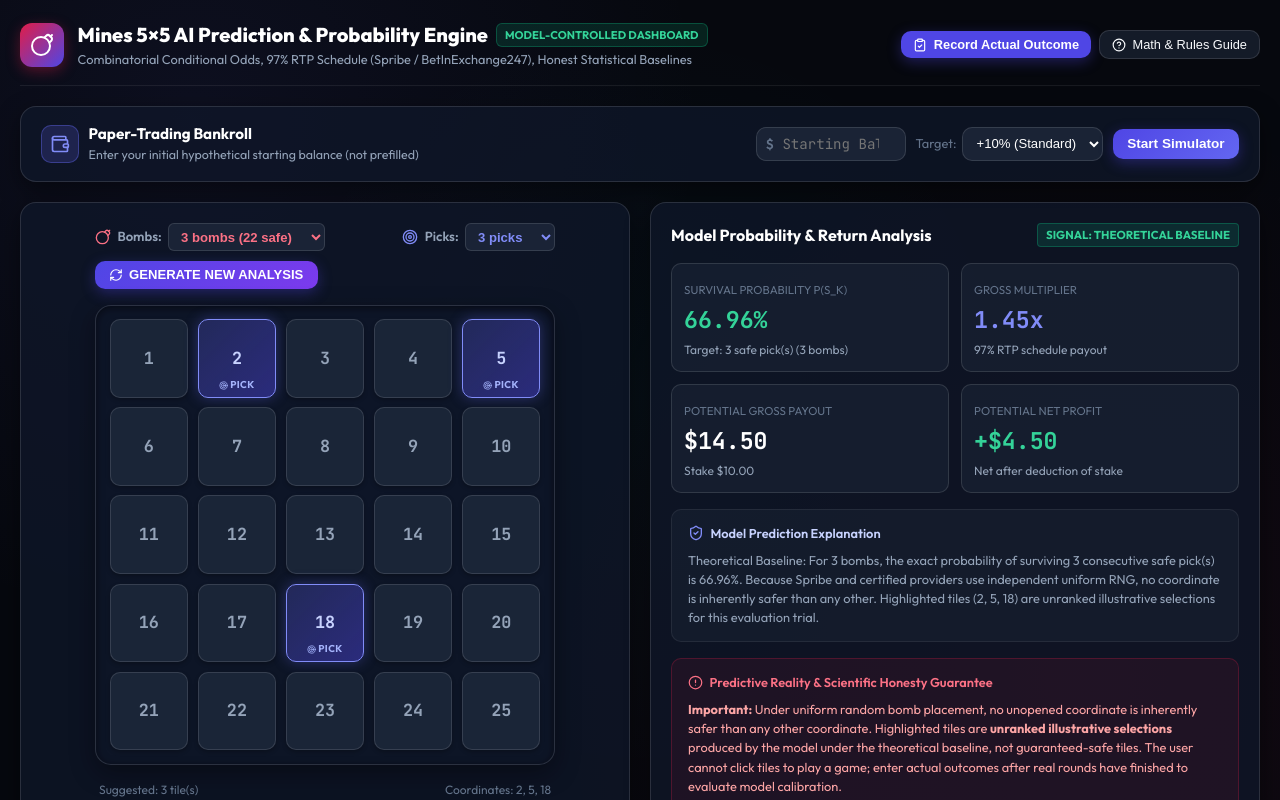
Test: Mines 5x5 UI Workflow and Model-Driven Analysis › Main Workflow: Model generates prediction and displays suggested coordinates without gameplay clicking
Select "4 bombs (21 safe)" in the dropdown named "Bomb count selector" at (247, 237), box [168,223,325,251]
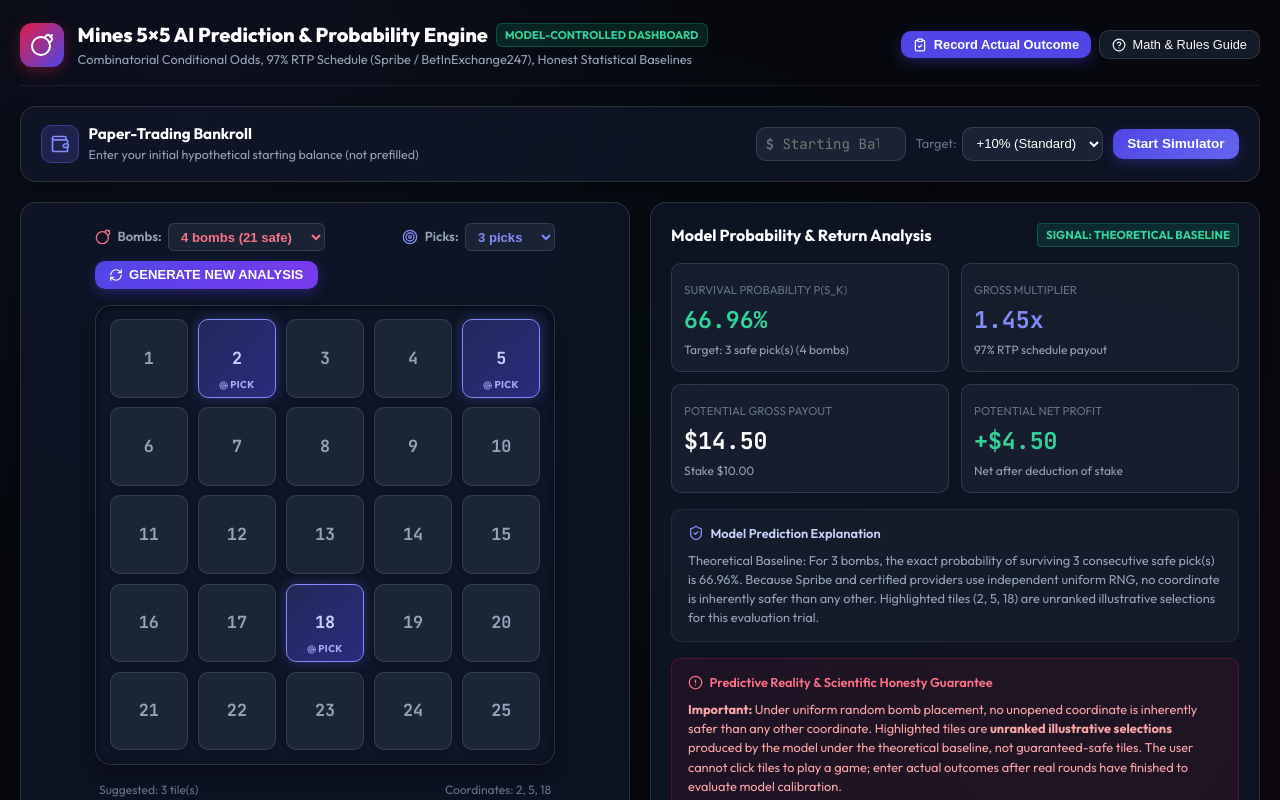
Select "2 picks" in the dropdown named "Picks count selector" at (510, 237), box [465,223,555,251]
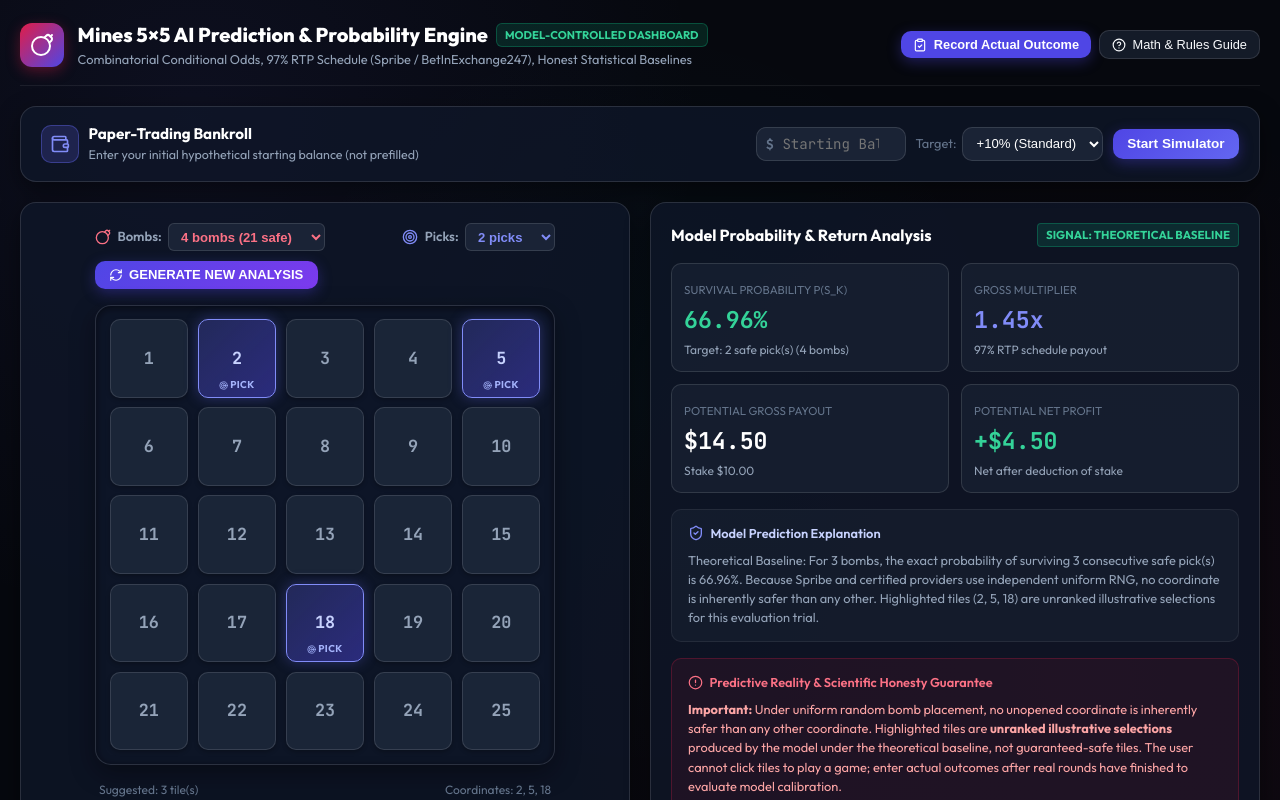
Click the button "GENERATE NEW ANALYSIS".
click(206, 275)  # box [95,261,318,289]
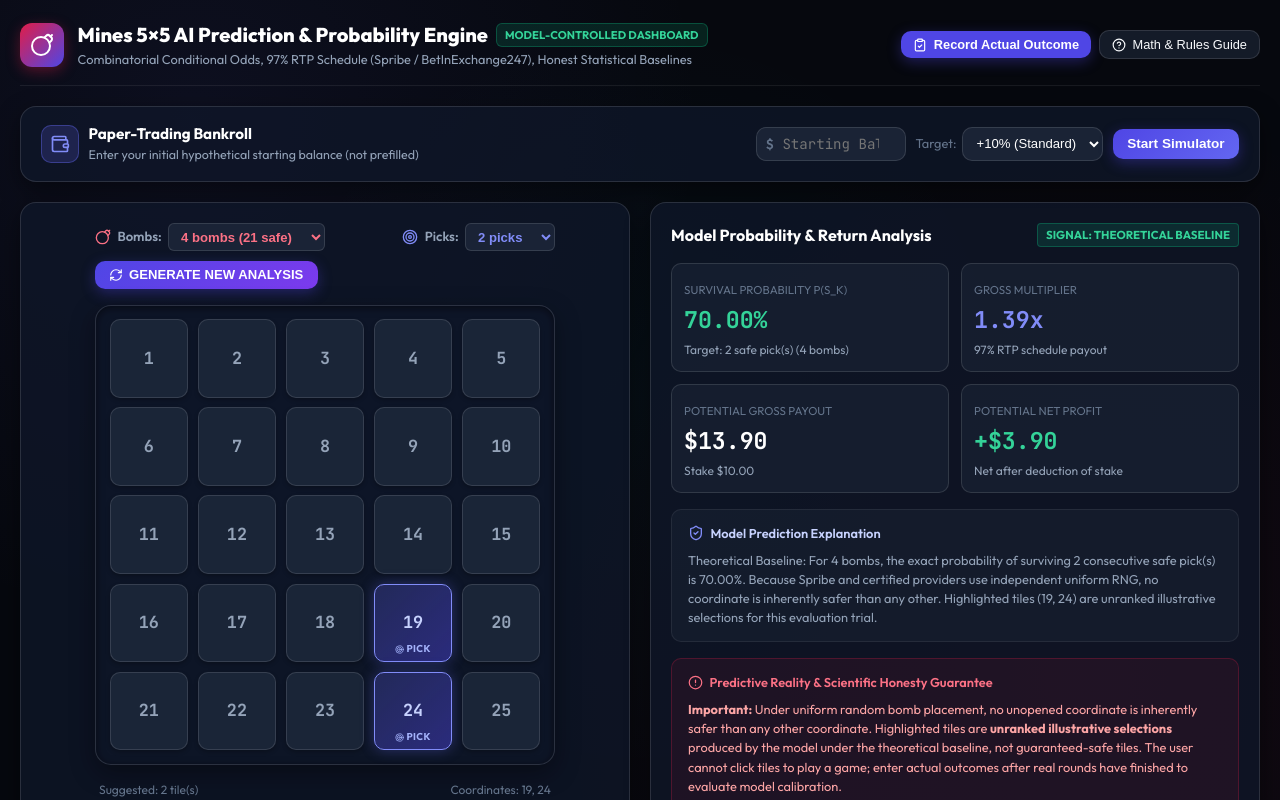
Expected: the text "70.00%" is shown, [684,304,768,335]
Expected: the text "PICK" is shown 2 times, [406,642,431,657]; [406,730,431,745]
# Check Record Actual Outcome button opens the evaluation modal
Click the button "Record Actual Outcome".
click(996, 45)  # box [901,31,1091,58]
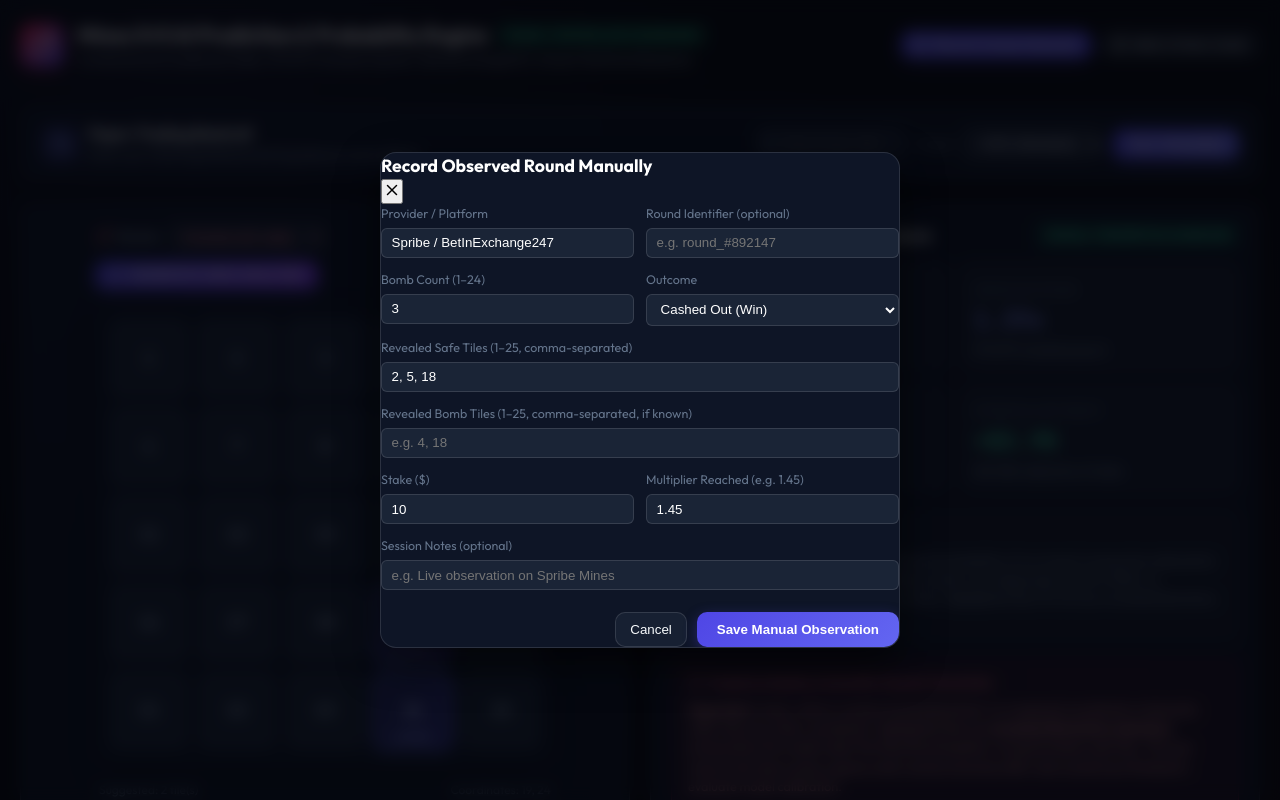
Expected: the heading "Record Observed Round Manually" is shown, [381,154,652,177]
Expected: the field with placeholder "e.g. Spribe / BetInExchange247" below "Provider / Platform" is shown, [381,228,634,258]
